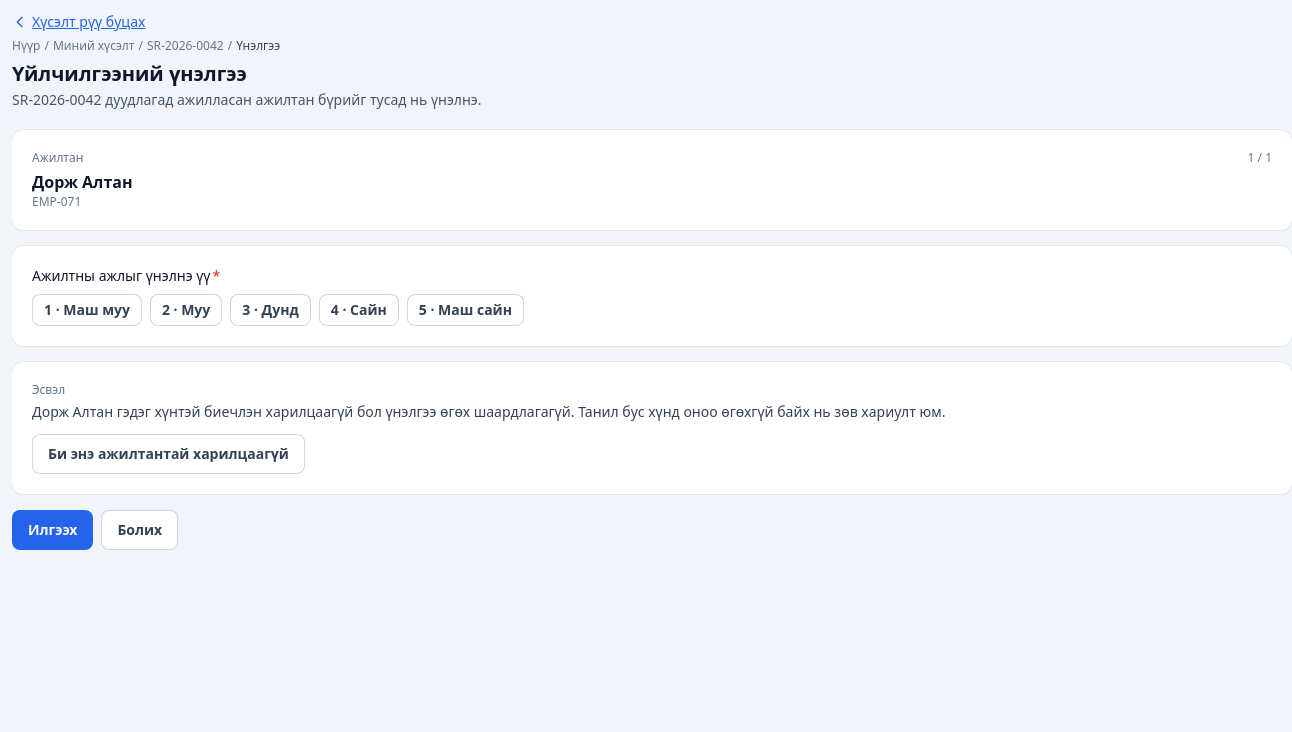
Test case: PortalSurveyPage › blocks an ordinary submit while a required question is unanswered
This screenshot has width=1292, height=732.
Expected: the text "Дорж Алтан" is shown, [32,171,132,193]
Click the button "Илгээх": x=53, y=530 [12,510,93,550]
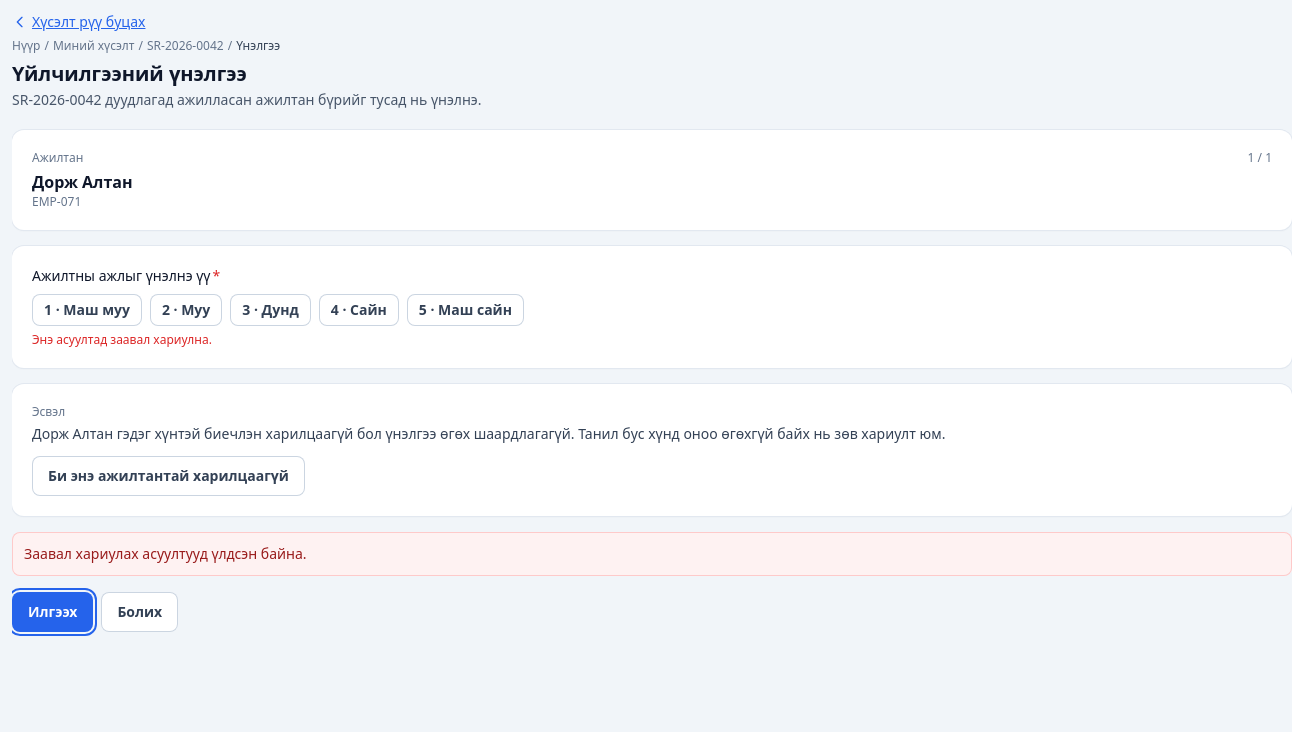
Expected: the text "Энэ асуултад заавал хариулна." is shown, [32,331,212,348]
